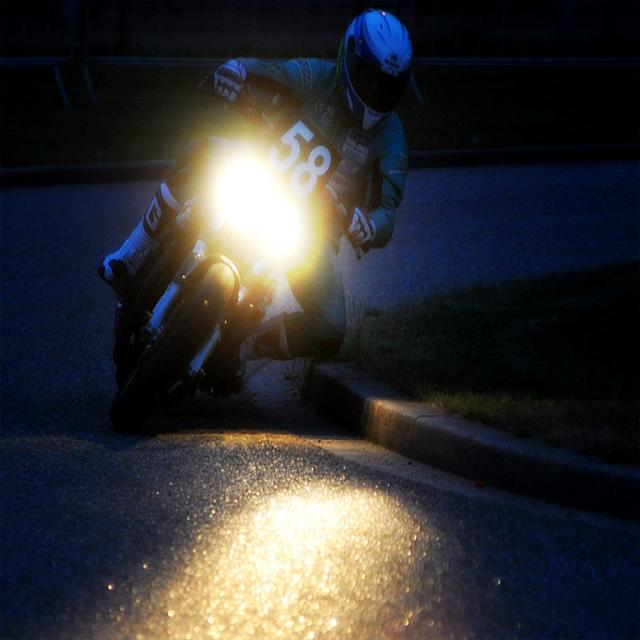Motorbike: (103, 73, 386, 390)
People: (98, 0, 427, 350)
